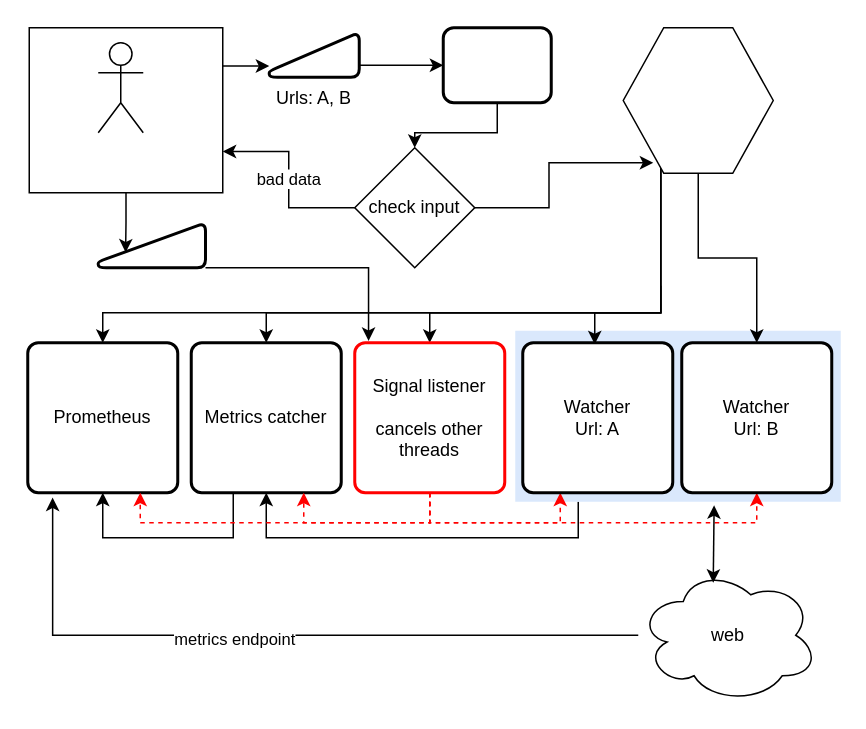
Some shapes in this 866 by 729 pixel diagram are drawn without their labels. The centre of each missing label's shape, as x and y in pixels:
"interrupt" goes at pixel 151 244.
"register urls, start services" goes at pixel 697 99.
"Start" goes at pixel 496 65.
"User" goes at pixel 120 87.
